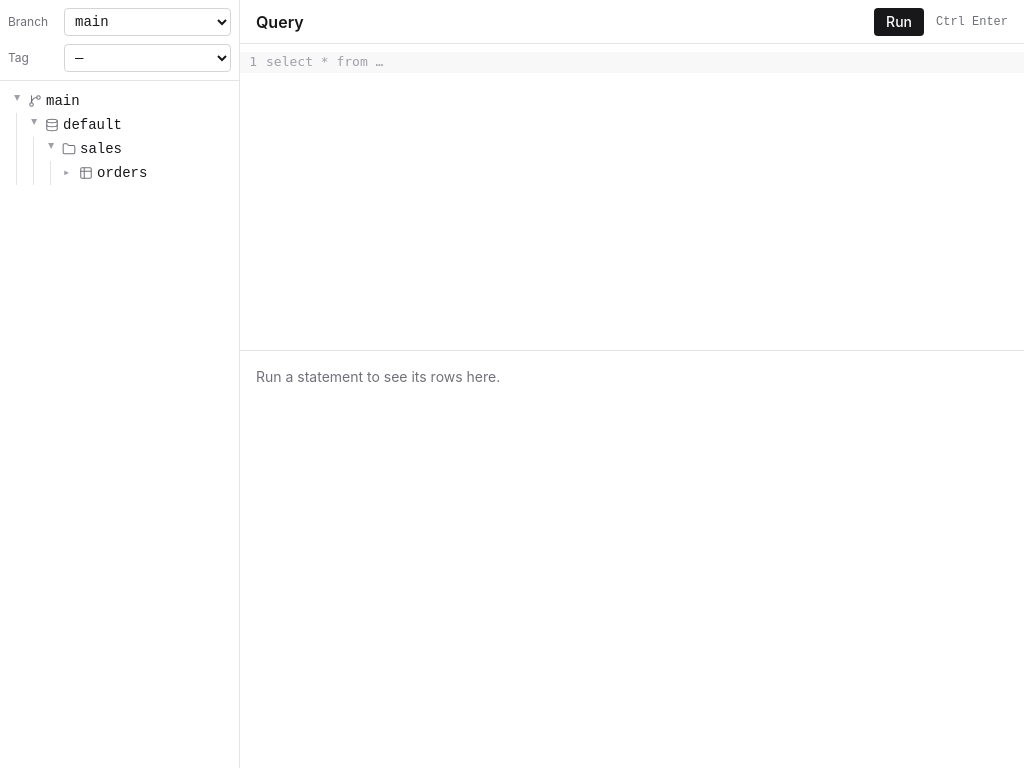
Test case: QueryPage › unfolds a table on its columns, each with its type, a nested one below its column
Step 1. Click the text "orders" → (122, 173), box [97,165,147,181]
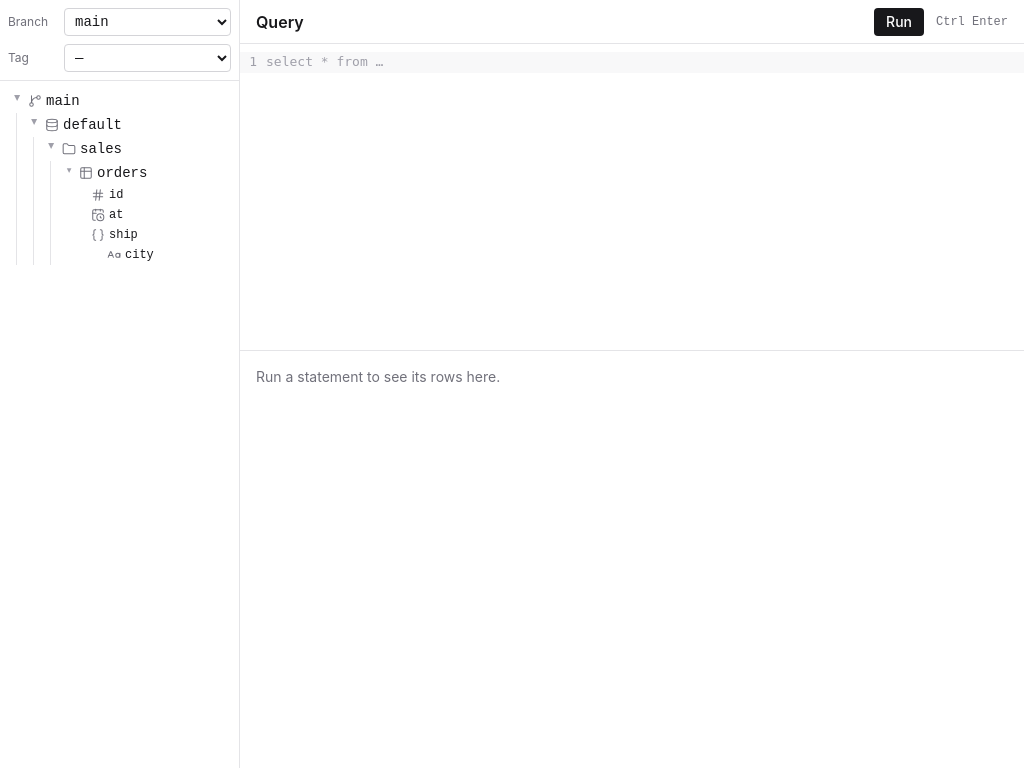
Now the list items read "id", "at", "ship", "city", in this order, box [91,188,123,202]; [91,208,123,222]; [91,228,138,242]; [107,248,154,262]
